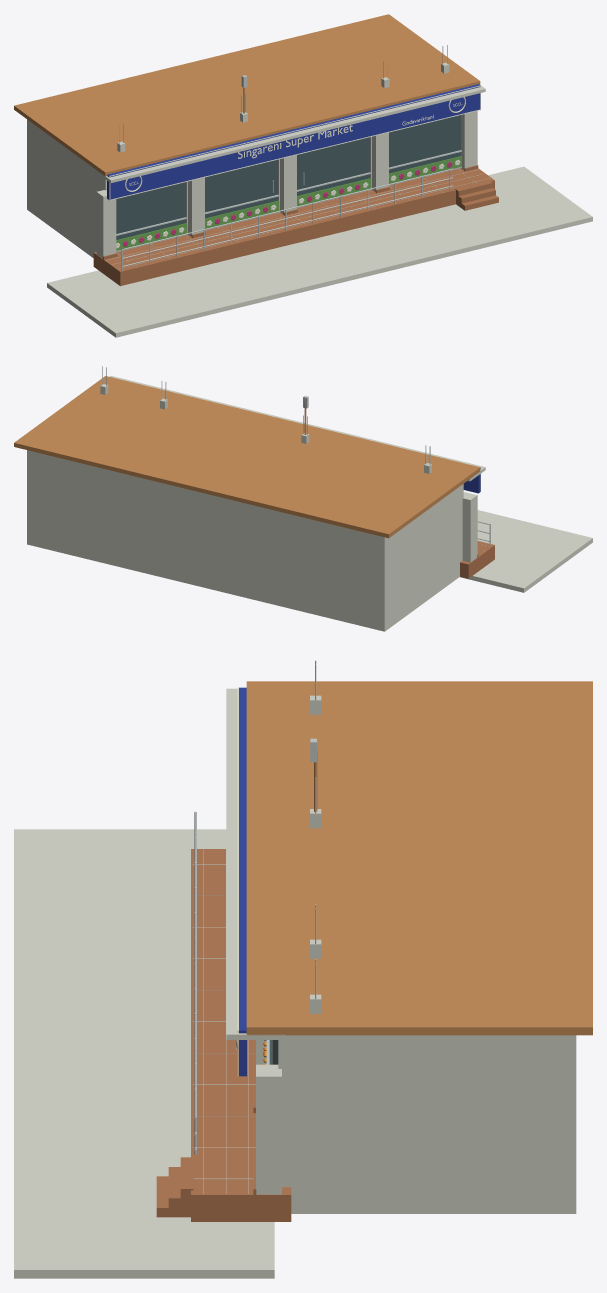
File: singareni_super_market.glb
The picture shows the model from 3 angles, top to bottom: view 1: azimuth 30°, elevation 25°; view 2: azimuth 150°, elevation 25°; view 3: azimuth 270°, elevation 25°; orthographic projection. The views are drawn at different scales.
Visible parts, largest first — view 1: Roof slab, Street pavement, Raised tiled walkway, Blue full width sign, Market building estimated depth, Glass storefront.002, Glass storefront.001, Glass storefront.003, Glass storefront, Roof pale soffit, Cream structural pier, Cream structural pier.002 (+13 smaller); view 2: Market building estimated depth, Roof slab, Street pavement, Cream structural pier, Roof pale soffit, Raised tiled walkway; view 3: Roof slab, Street pavement, Market building estimated depth, Raised tiled walkway, Roof pale soffit, Cream structural pier.004, Blue full width sign, Front stainless rail.002.
Part boxes in pixels (bbox=[...]): Roof slab: bbox=[14, 14, 480, 176]; Street pavement: bbox=[47, 166, 592, 337]; Raised tiled walkway: bbox=[93, 168, 494, 286]; Blue full width sign: bbox=[107, 84, 480, 199]; Market building estimated depth: bbox=[27, 119, 106, 257]; Glass storefront.002: bbox=[297, 137, 369, 195]; Glass storefront.001: bbox=[205, 159, 277, 218]; Glass storefront.003: bbox=[389, 115, 460, 173]; Glass storefront: bbox=[116, 182, 185, 239]; Roof pale soffit: bbox=[95, 85, 485, 182]; Cream structural pier: bbox=[96, 190, 116, 258]; Cream structural pier.002: bbox=[280, 155, 296, 214]; Market building estimated depth: bbox=[27, 450, 463, 631]; Roof slab: bbox=[14, 376, 480, 538]; Street pavement: bbox=[460, 510, 592, 592]; Cream structural pier: bbox=[462, 492, 477, 562]; Roof pale soffit: bbox=[110, 376, 485, 481]; Raised tiled walkway: bbox=[460, 541, 494, 578]; Roof slab: bbox=[246, 681, 592, 1035]; Street pavement: bbox=[14, 829, 274, 1278]; Market building estimated depth: bbox=[278, 1035, 576, 1213]; Raised tiled walkway: bbox=[191, 849, 291, 1221]; Roof pale soffit: bbox=[226, 688, 285, 1039]; Cream structural pier.004: bbox=[256, 1064, 281, 1194]; Blue full width sign: bbox=[239, 687, 246, 1076]; Front stainless rail.002: bbox=[194, 812, 196, 1119].
Size of the model in its own units: 28 by 8.58 by 15.55.
